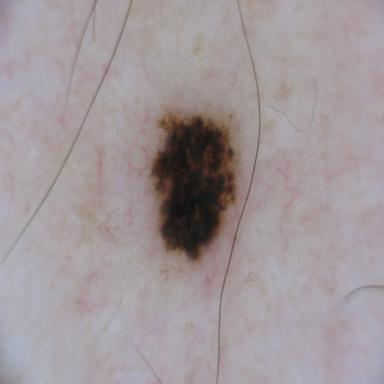nevus: (151, 116, 235, 259)
